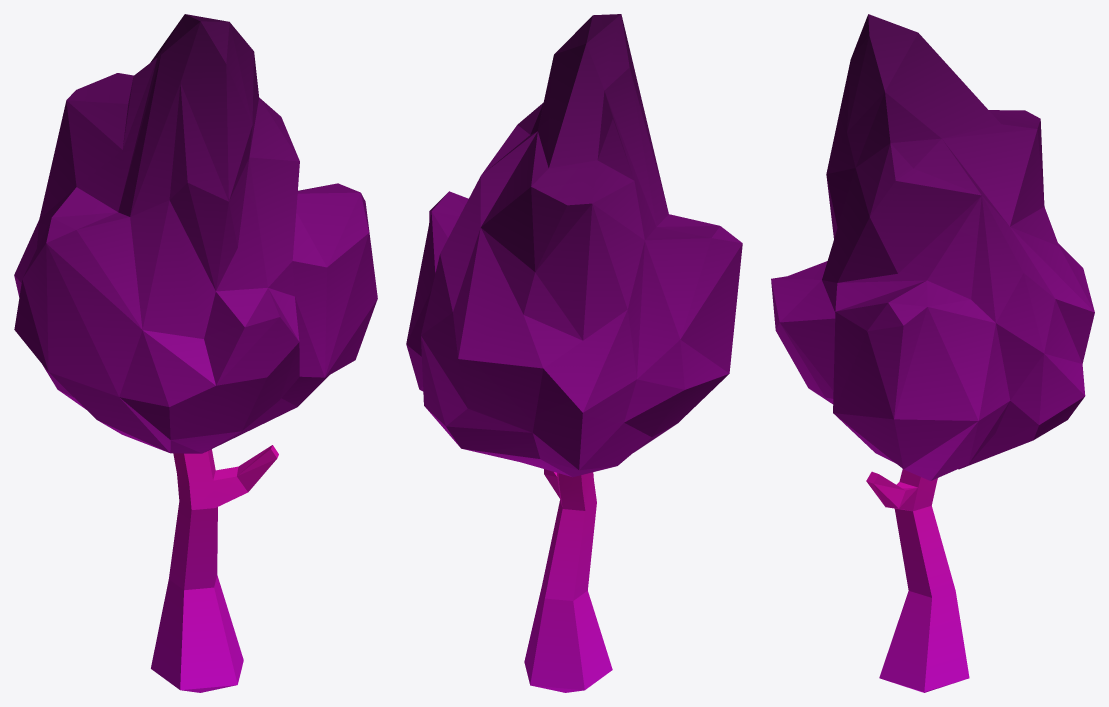
File: SM_Generic_Tree_03.fbx
3 views of the same model, side by side, from view 1: azimuth 30°, elevation 25°; view 2: azimuth 150°, elevation 25°; view 3: azimuth 270°, elevation 25° (orthographic). The views are drawn at different scales.
Parts seen in each view (by area): view 1: SM_Generic_Tree_03; view 2: SM_Generic_Tree_03; view 3: SM_Generic_Tree_03.
Part boxes in pixels (x1,y1,x2,y2): SM_Generic_Tree_03: (14, 14, 377, 692); SM_Generic_Tree_03: (406, 14, 742, 692); SM_Generic_Tree_03: (771, 14, 1094, 692).
Bounding box in the file's own units: 173 × 349 × 154.
